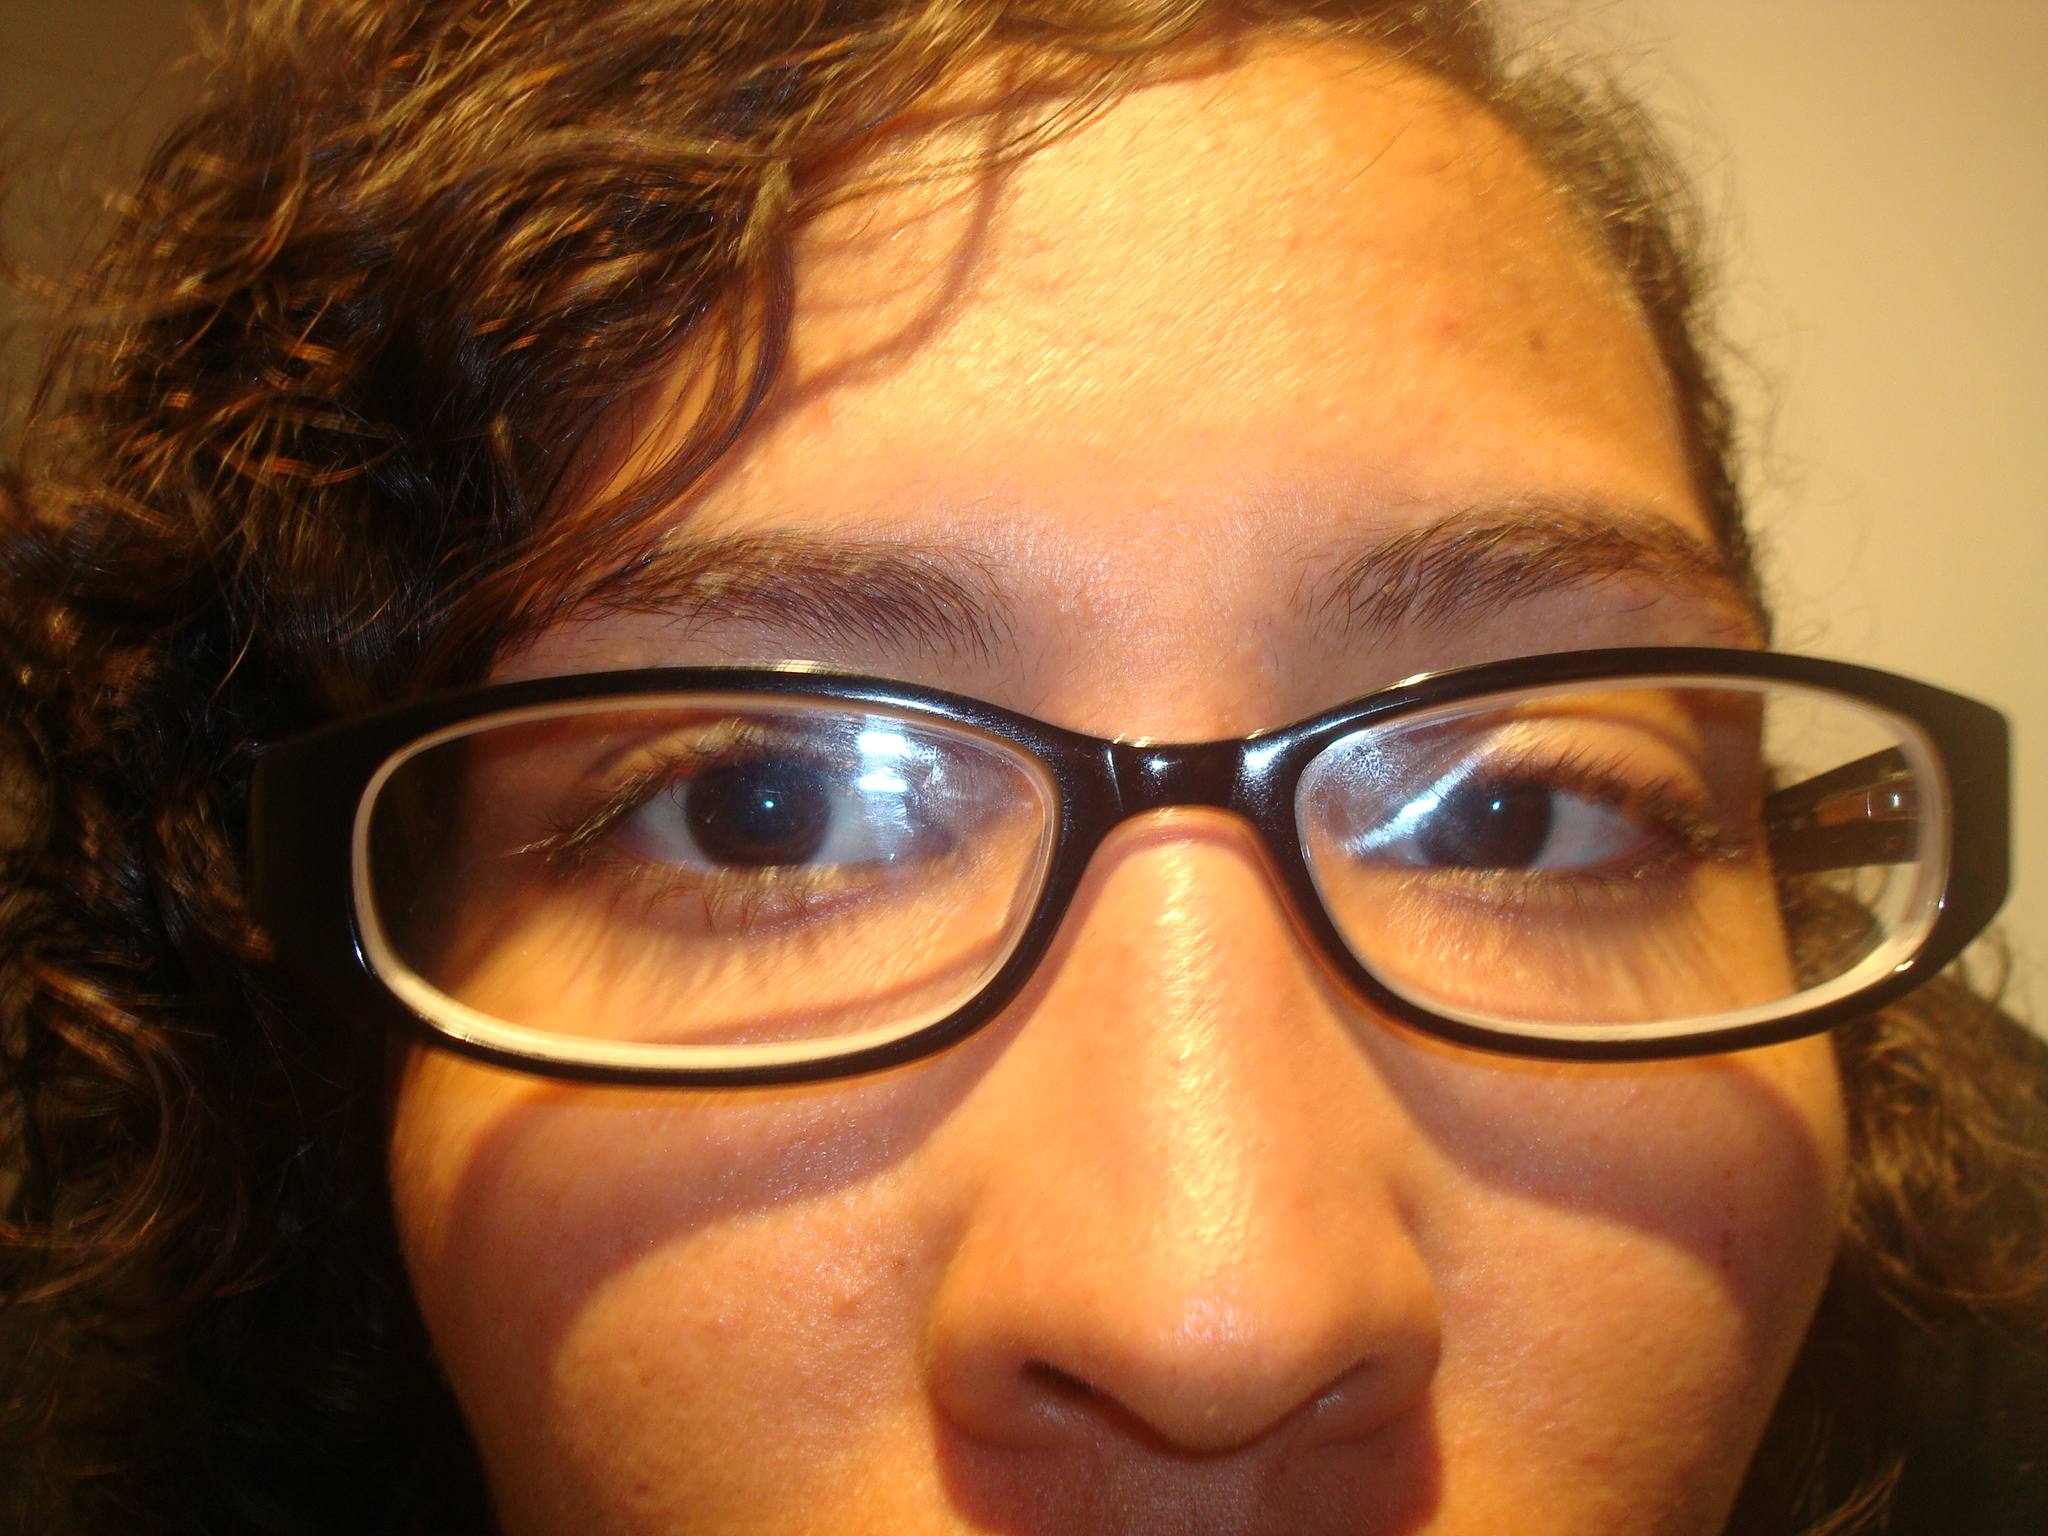flash: (761, 795, 777, 812), (1488, 797, 1505, 813)
limbo: (679, 742, 827, 874), (1427, 755, 1550, 870)
